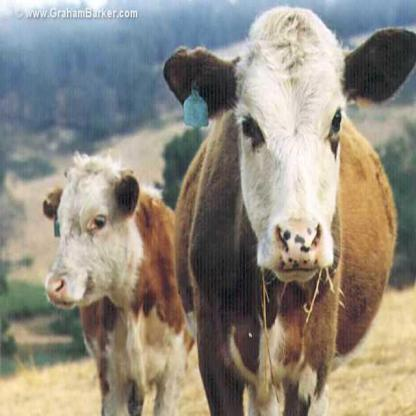cow: (165, 6, 415, 416), (45, 157, 195, 416)
